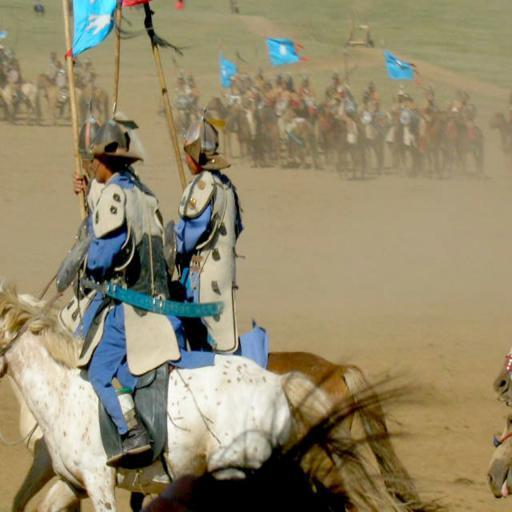horse: (2, 286, 412, 511), (262, 346, 428, 508), (202, 86, 486, 180), (4, 289, 82, 511), (0, 66, 111, 128), (486, 412, 512, 498), (490, 348, 512, 406), (487, 106, 511, 152)
